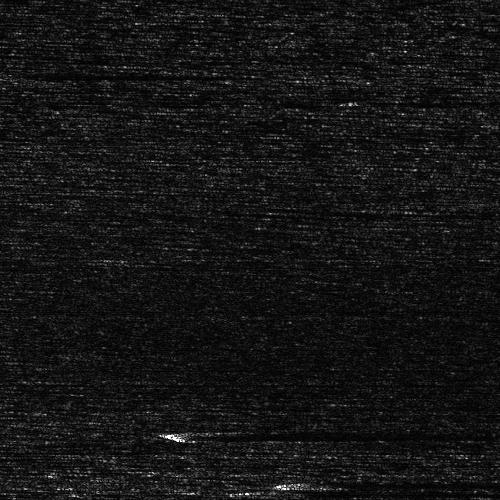rock: (149, 426, 242, 437), (0, 70, 42, 77)
shadow: (196, 426, 449, 437), (1, 70, 240, 77), (288, 483, 461, 486)
